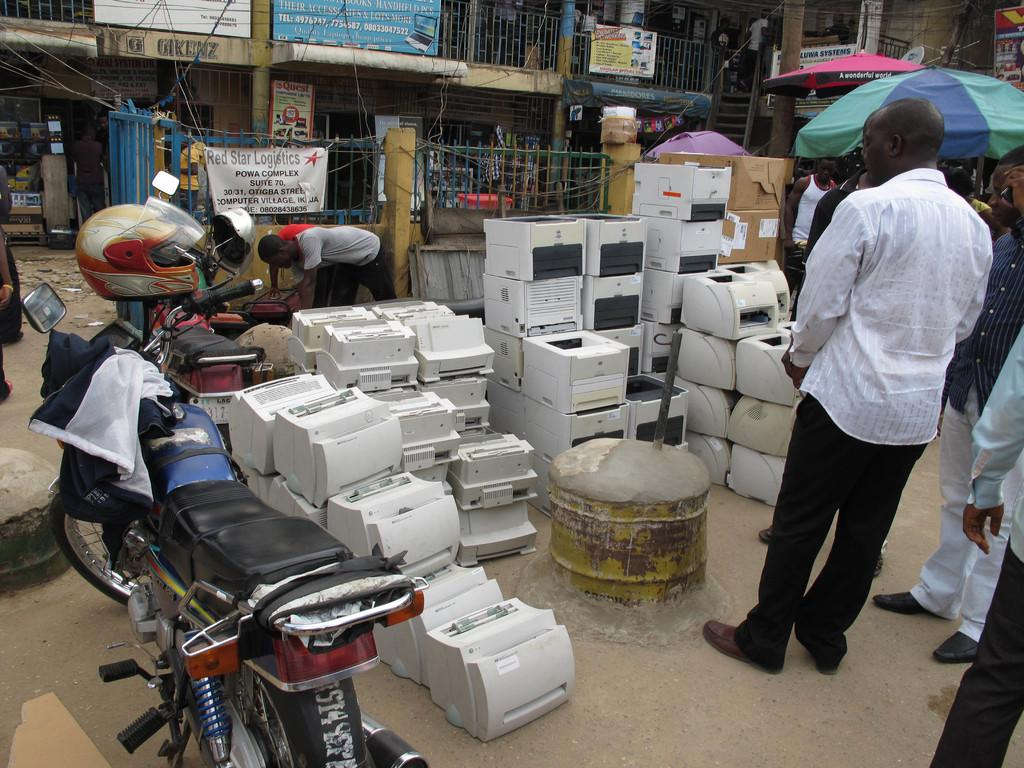helmet: (75, 196, 206, 302), (213, 208, 257, 279)
nohelmet: (859, 96, 946, 194), (986, 144, 1024, 234), (258, 234, 296, 270), (816, 154, 839, 186)
